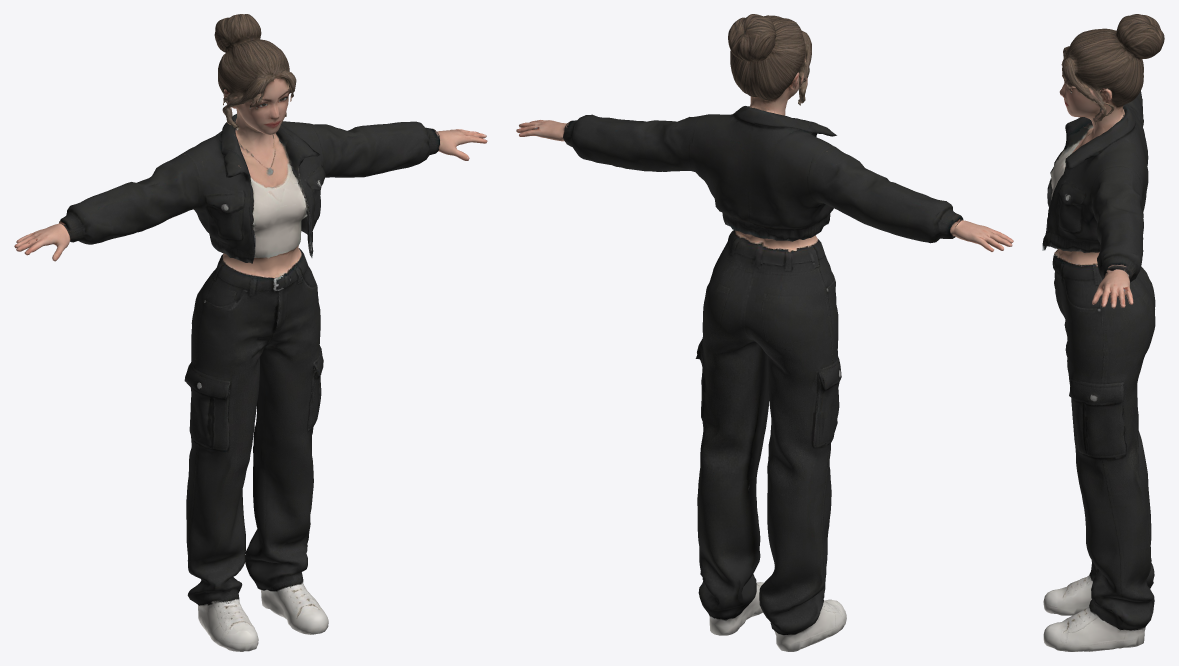
Rendered from haidy.glb.
The picture shows the model from 3 angles, left to right: view 1: azimuth 30°, elevation 25°; view 2: azimuth 150°, elevation 25°; view 3: azimuth 270°, elevation 25°; orthographic projection. The views are drawn at different scales.
Parts seen in each view (by area): view 1: body; view 2: body; view 3: body.
Part boxes in pixels (x1,y1,x2,y2): body: (14,14,487,651); body: (516,14,1013,651); body: (1042,14,1164,651).
Bounding box in the file's own units: 1.49 × 1.8 × 0.3262.
Materials: 1 (1 with a texture image).
